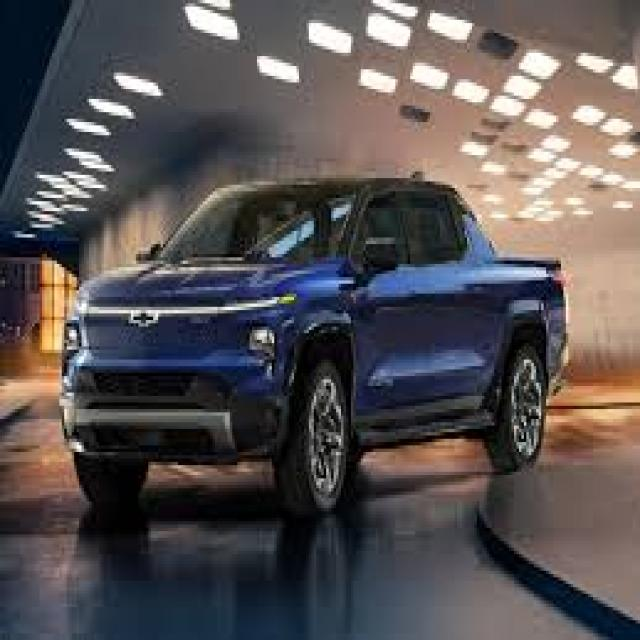Pickup Trucks: (59, 182, 568, 524)
